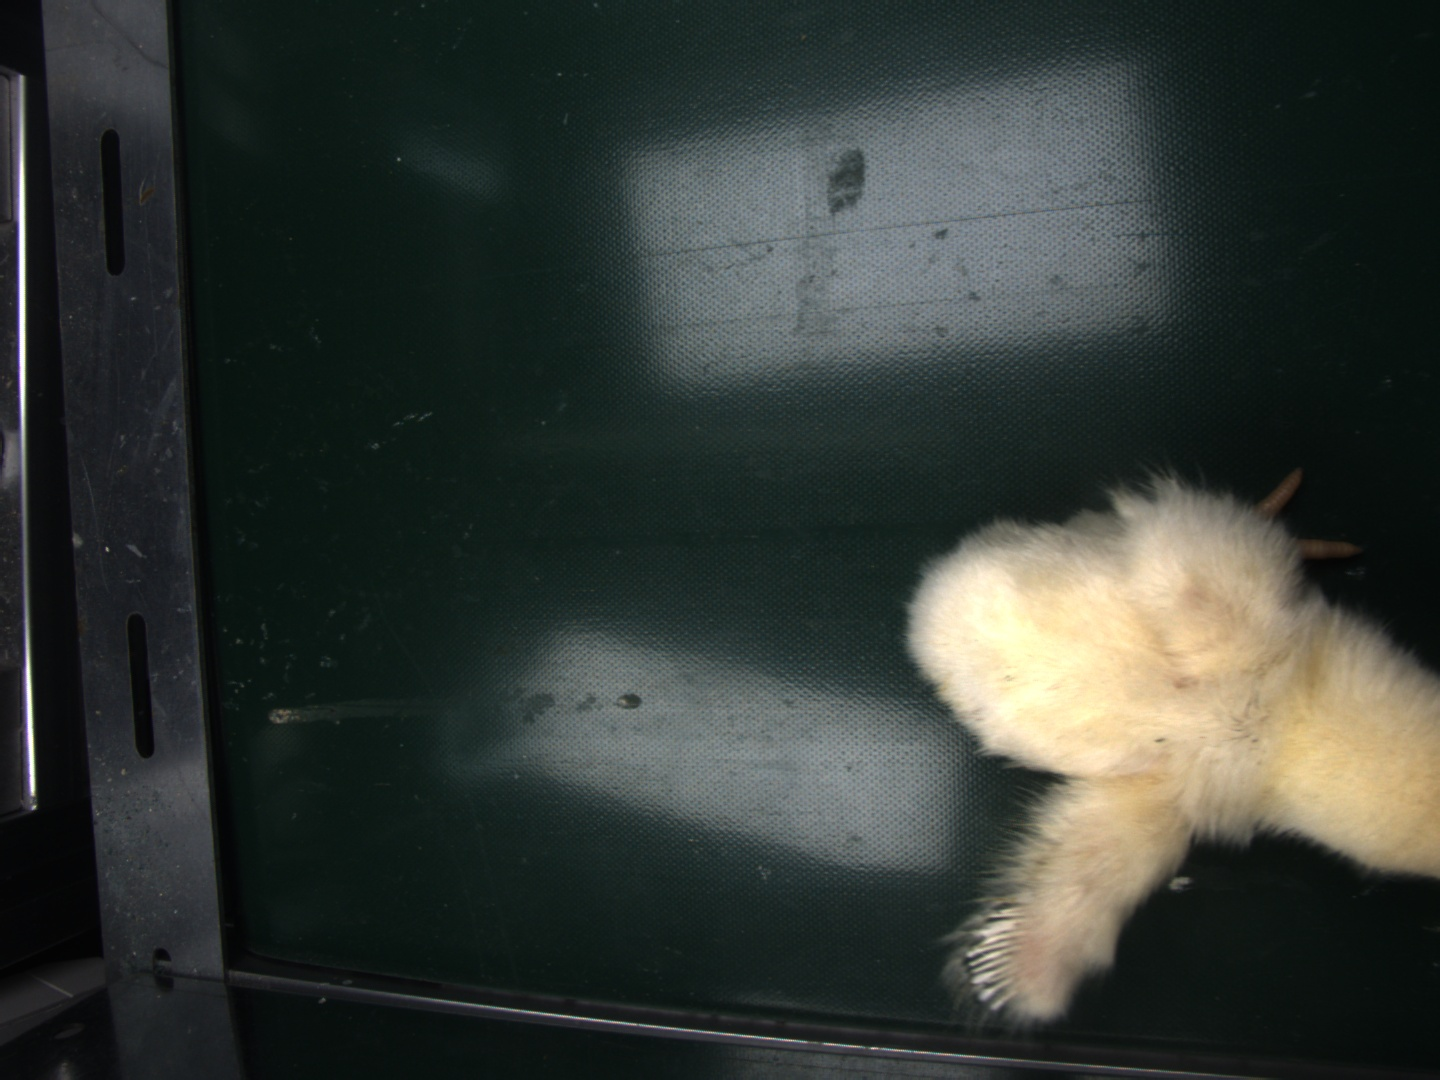male: (969, 906, 1030, 1007)
